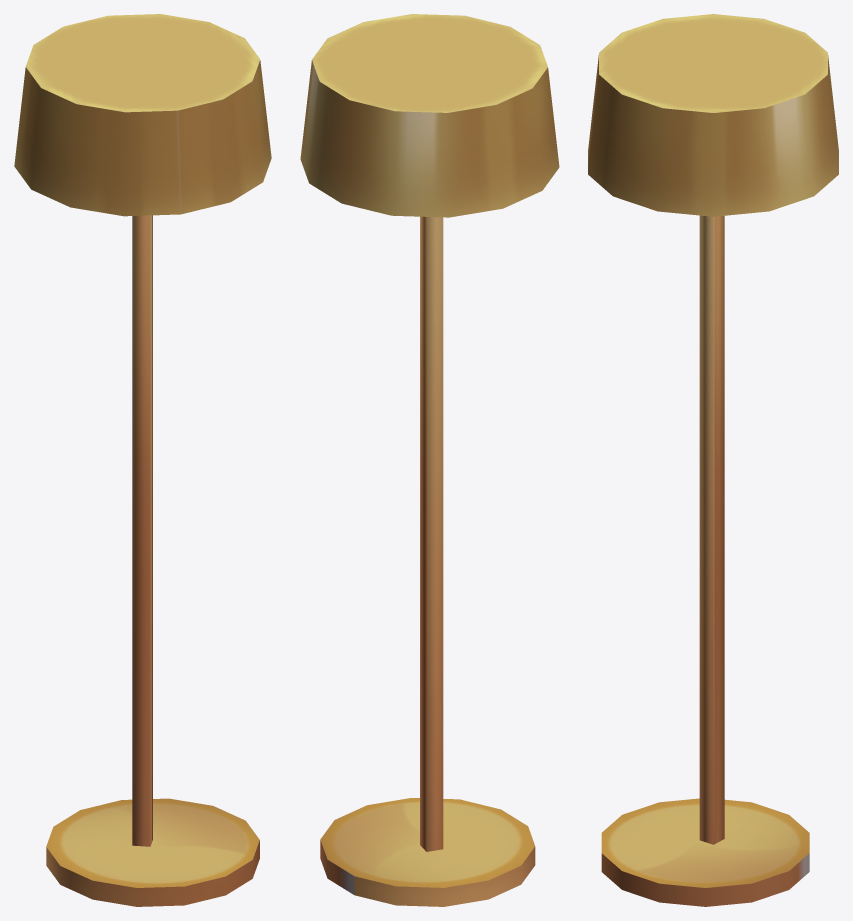
File: CBS_cafe_Light_Stand.FBX
3 renders of one model, left to right at view 1: azimuth 30°, elevation 25°; view 2: azimuth 150°, elevation 25°; view 3: azimuth 270°, elevation 25°, orthographic.
Parts seen in each view (by area): view 1: CBS_cafe_Light_Stand; view 2: CBS_cafe_Light_Stand; view 3: CBS_cafe_Light_Stand.
Boxes of the visible parts, box(x1,y1,x2,y2) form: CBS_cafe_Light_Stand: box(14, 14, 271, 906); CBS_cafe_Light_Stand: box(300, 14, 559, 906); CBS_cafe_Light_Stand: box(588, 14, 838, 906).
Bounding box in the file's own units: 34.94 × 119 × 34.06.
